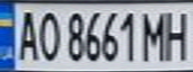1: (118, 8, 142, 62)
6: (81, 8, 103, 62), (100, 8, 121, 62)
8: (63, 8, 84, 62)
A: (12, 7, 42, 62)
H: (160, 7, 193, 62)
M: (139, 7, 172, 62)
O: (33, 8, 60, 62)
